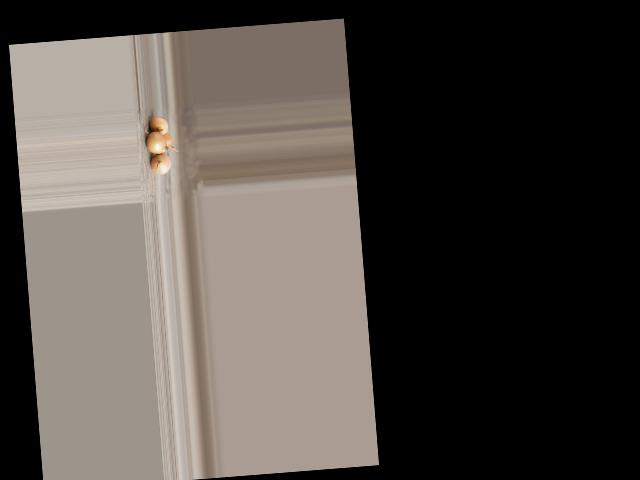onion: (157, 130, 173, 150)
